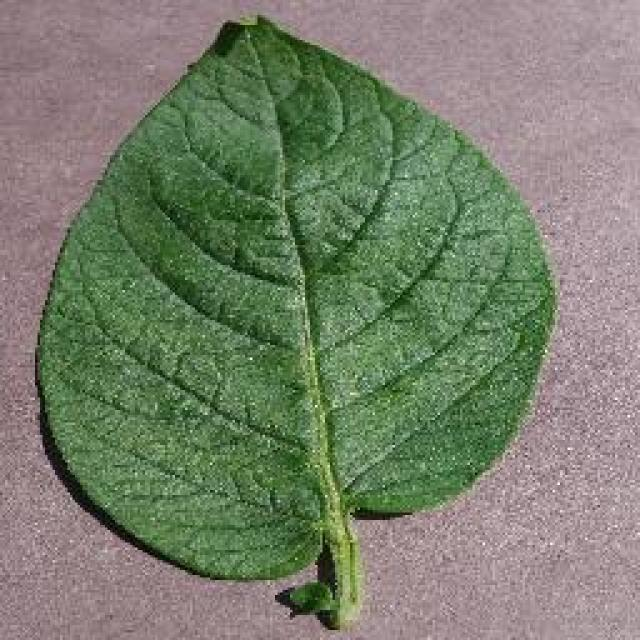healthy: (30, 10, 562, 630)
